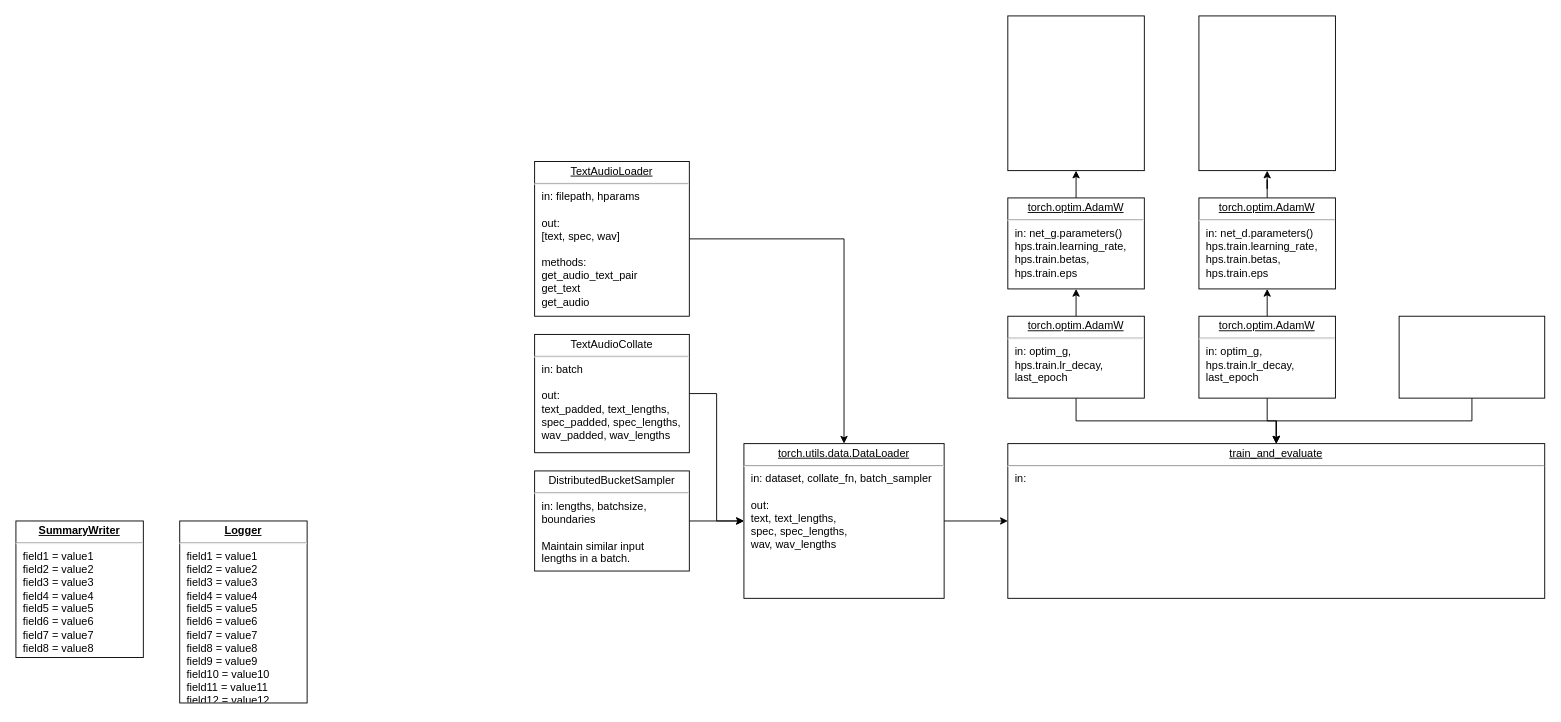
Image size: 1561x722. Some labels were removed from this diagram. Here are the shapes that lost their labels. From the top down, the box of each, then its label:
(1007, 15, 1144, 171): SynthesizerTrn in:
(1198, 15, 1335, 171): MultiPeriodDiscriminator in:
(1398, 315, 1545, 398): torch.cuda.amp.GradScaler in:
